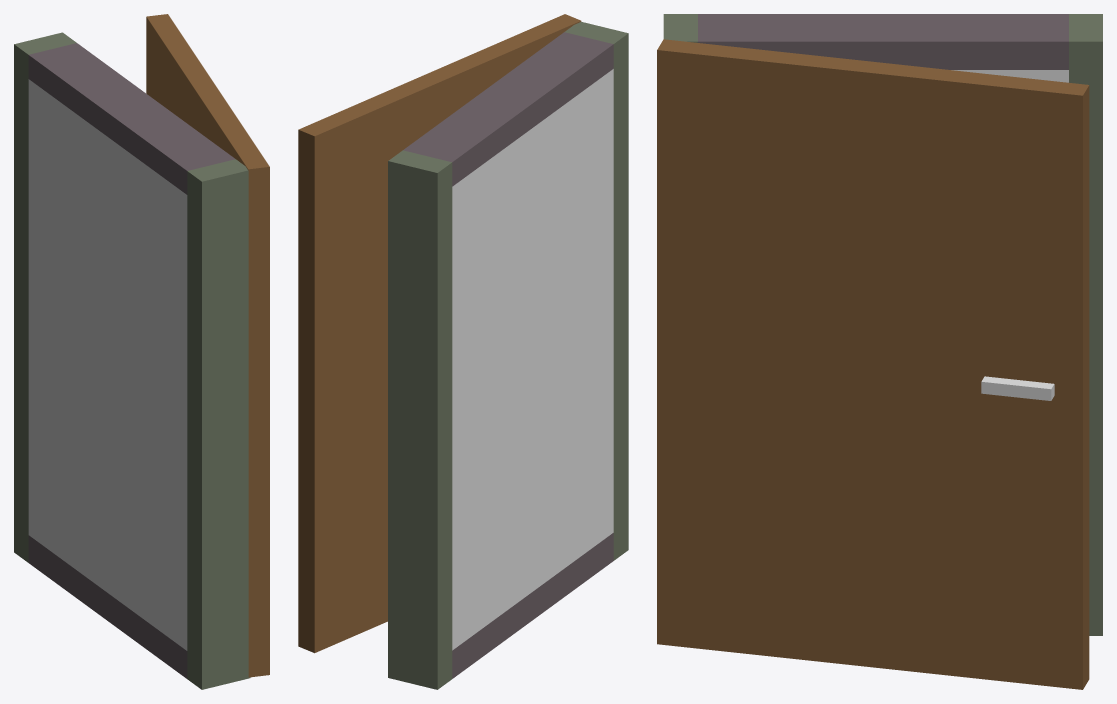
Rendered from deur-merged.glb.
3 renders of one model, left to right at view 1: azimuth 30°, elevation 25°; view 2: azimuth 150°, elevation 25°; view 3: azimuth 270°, elevation 25°, orthographic. The views are drawn at different scales.
Parts seen in each view (by area): view 1: deur; view 2: deur; view 3: deur.
Part boxes in pixels (x1=…): deur: x1=14, y1=14, x2=269, y2=689; deur: x1=298, y1=14, x2=628, y2=689; deur: x1=657, y1=14, x2=1102, y2=689.
Size of the model in its own units: 0.2866 by 0.9332 by 0.6331.
